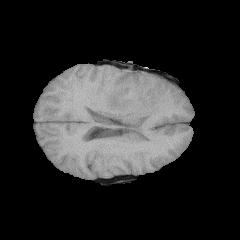glioma: (94, 68, 164, 137)
